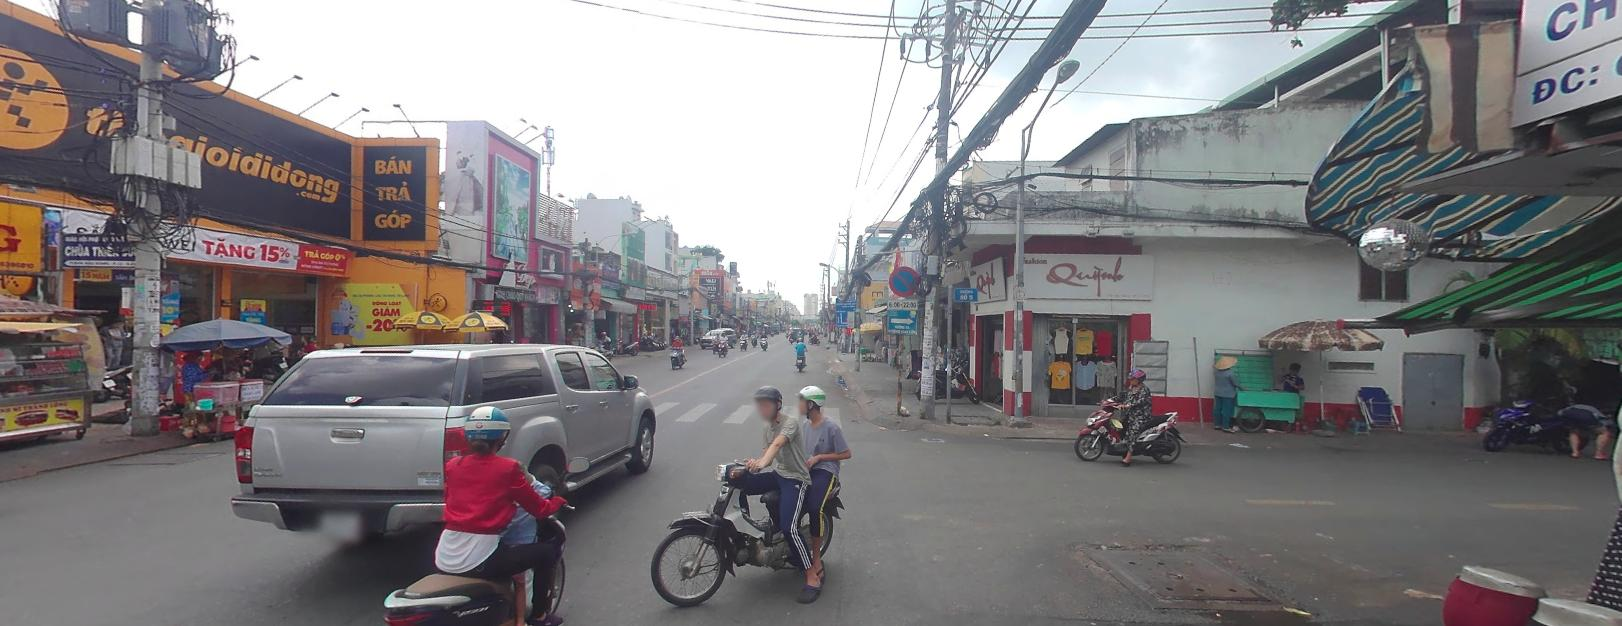Cam dung va do: (888, 264, 918, 295)
